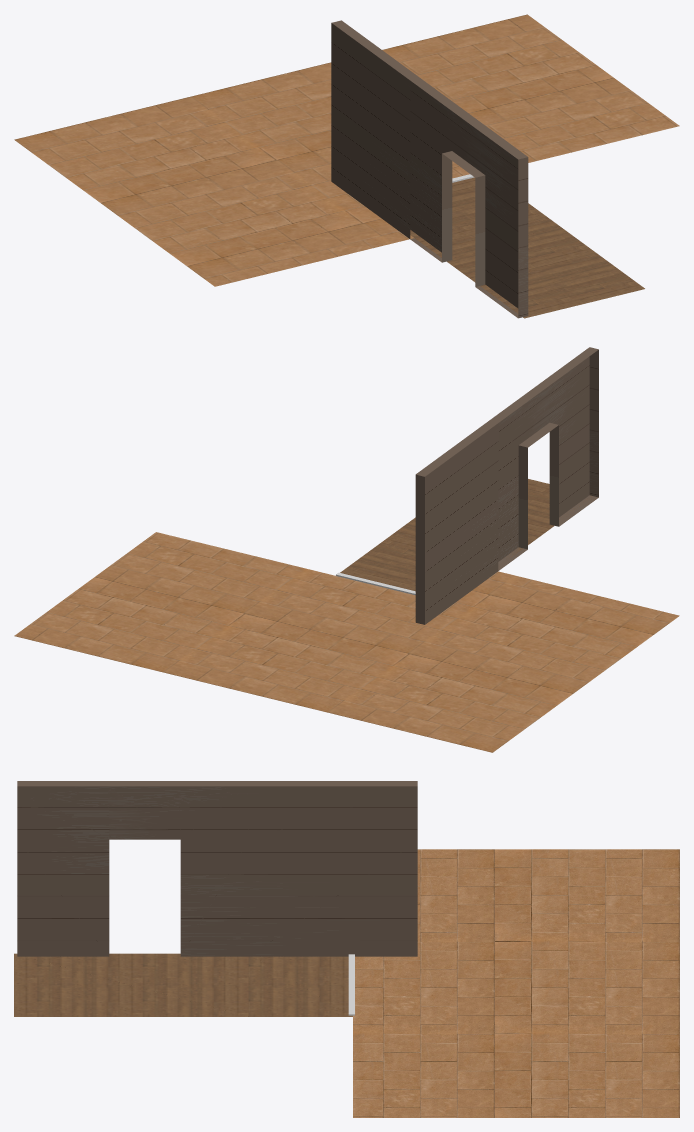
The model's file is corridor_back.gltf.
3 views of the same model, one above another, from view 1: azimuth 30°, elevation 25°; view 2: azimuth 150°, elevation 25°; view 3: azimuth 270°, elevation 25° (orthographic). The views are drawn at different scales.
Parts seen in each view (by area): view 1: Plane.011, Wall Standard (Door).013, Plane.010; view 2: Plane.011, Wall Standard (Door).013, Plane.010; view 3: Plane.011, Wall Standard (Door).013, Plane.010.
Boxes of the visible parts, x1,y1,x2,y2 form: Plane.011: (14,14,679,286); Wall Standard (Door).013: (331,20,528,318); Plane.010: (410,177,644,318); Plane.011: (14,532,679,752); Wall Standard (Door).013: (415,347,598,624); Plane.010: (340,479,591,591); Plane.011: (353,849,679,1117); Wall Standard (Door).013: (17,781,417,956); Plane.010: (14,953,352,1016).
Size of the model in its own units: 10.14 by 3 by 10.64.
Materials: 4 (4 with a texture image).
